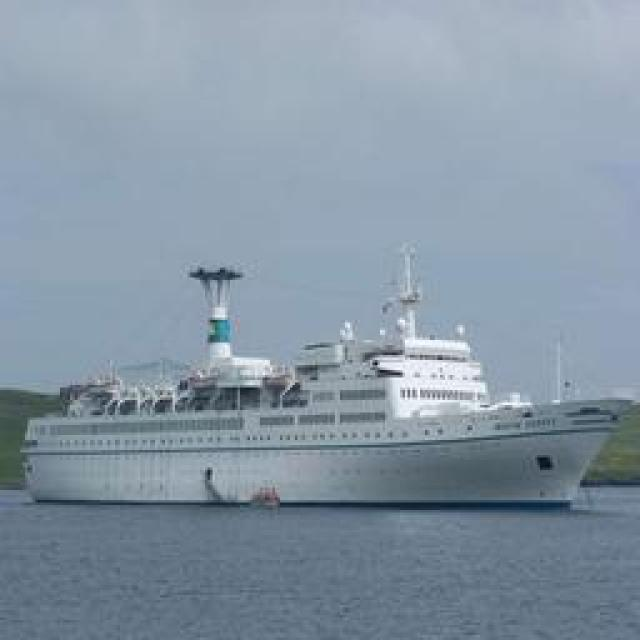CIV_Ship: (21, 238, 624, 502)
